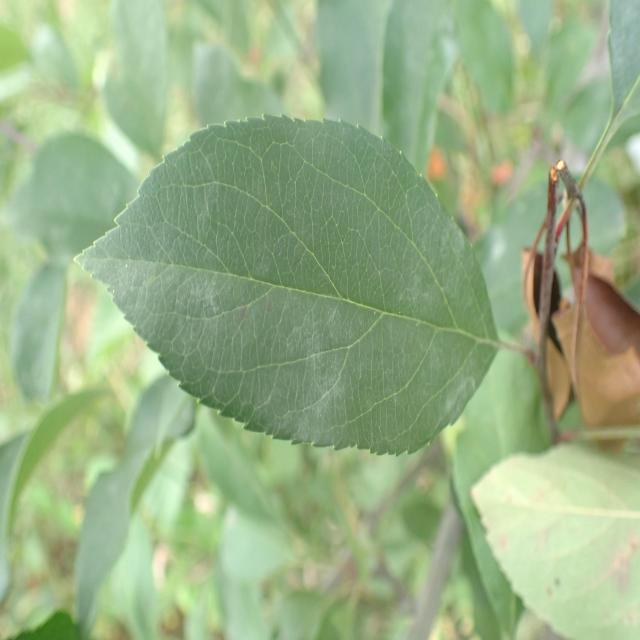Powdery_mildew: (92, 103, 517, 449)
